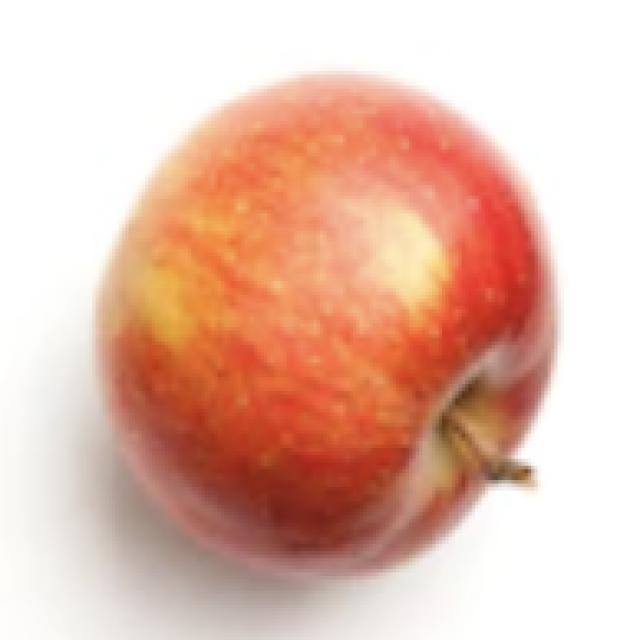Fresh Apple: (99, 75, 568, 570)
